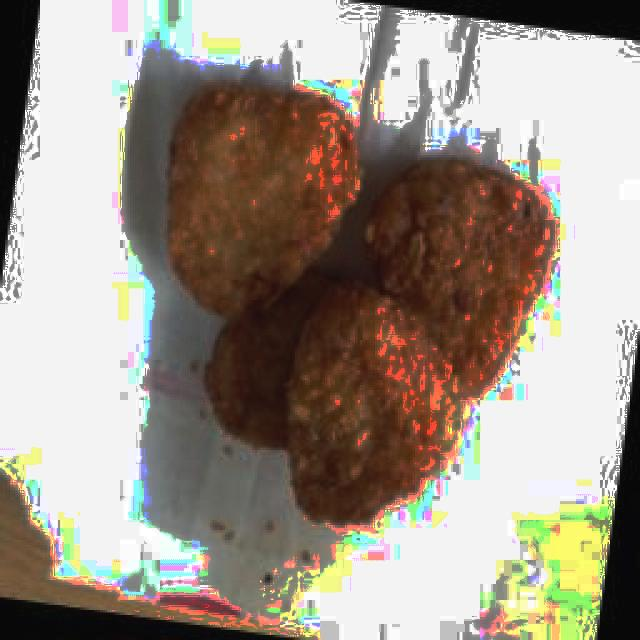Hashbrown: (167, 81, 362, 317), (369, 159, 554, 400), (288, 279, 460, 525), (207, 274, 351, 452)
